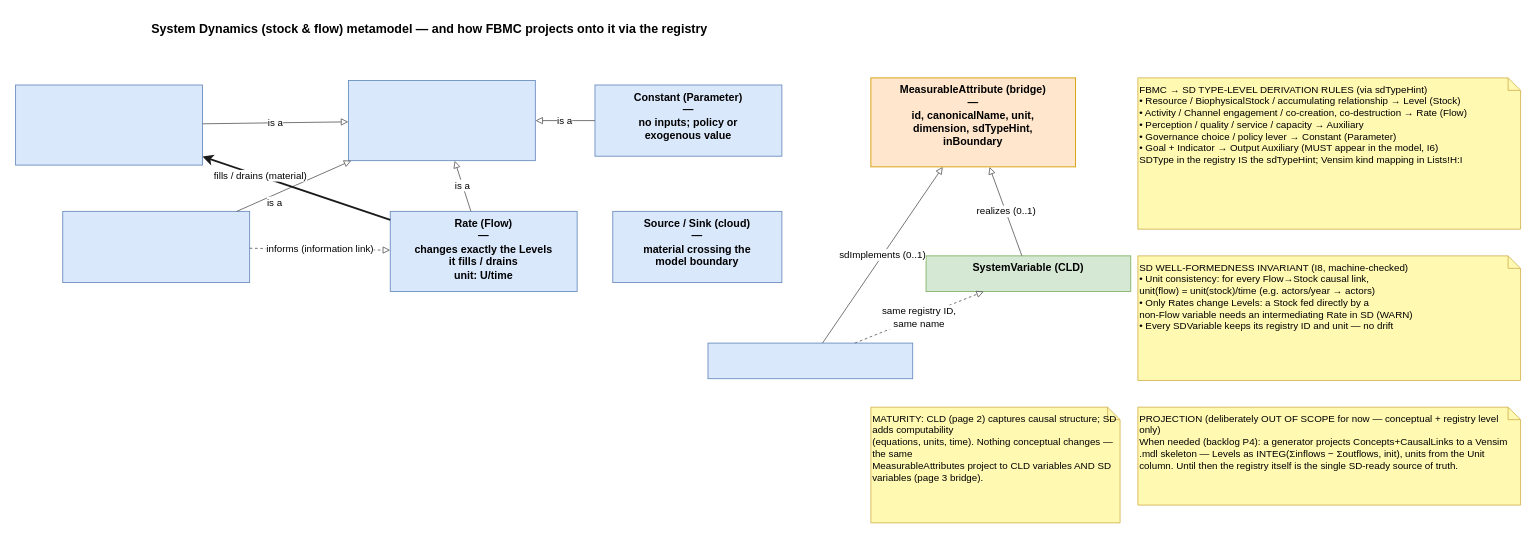
Some shapes in this 1536 by 538 pixel diagram are drawn without their labels. The centre of each missing label's shape, as x and y in pixels:
Auxiliary — instantaneous function of other variables unit: any: the point at 156,246
Level (Stock) — INTEG(inflows − outflows, initial value) unit: U: the point at 108,124
SDVariable (Vensim): the point at 810,360
SDVariable — vensimName : string unit : string equation : expr: the point at 441,120
